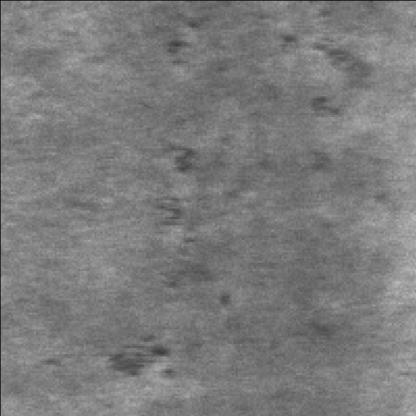rolled-in_scale: (152, 137, 235, 304), (281, 25, 383, 127), (91, 335, 183, 387)
